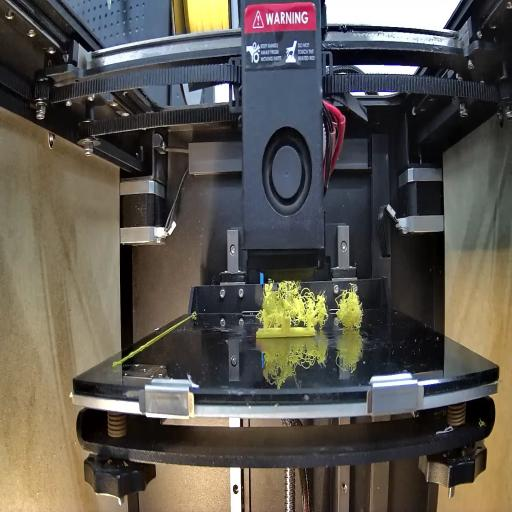spaghetti: (260, 269, 366, 332)
